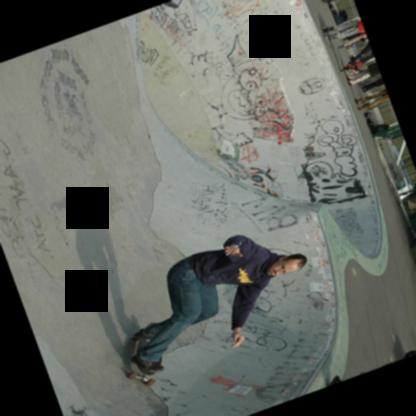backpack: (368, 124, 388, 134)
